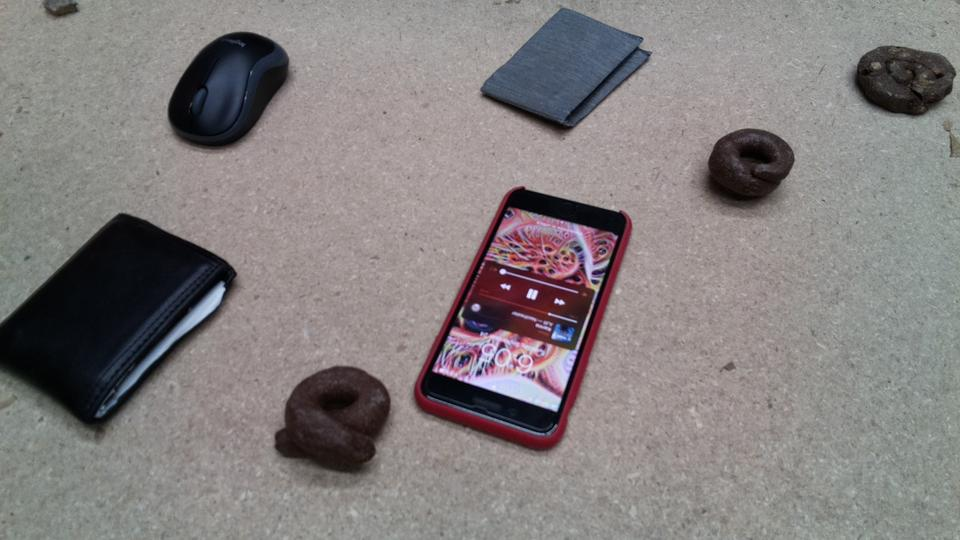poop: (272, 363, 393, 475), (851, 43, 957, 119), (704, 125, 798, 207)
